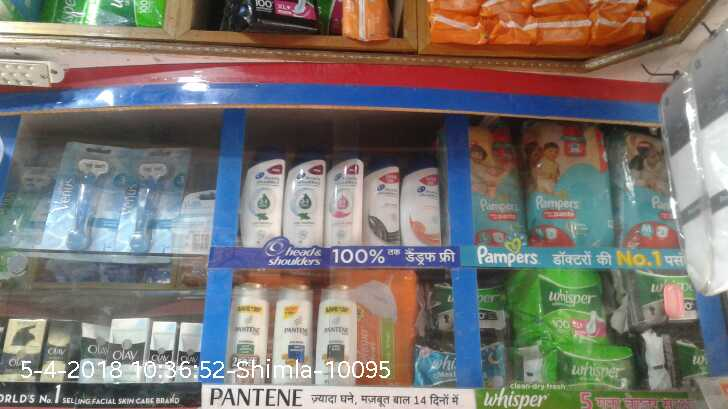venus: (50, 140, 114, 251), (115, 147, 173, 253), (16, 133, 49, 250)
